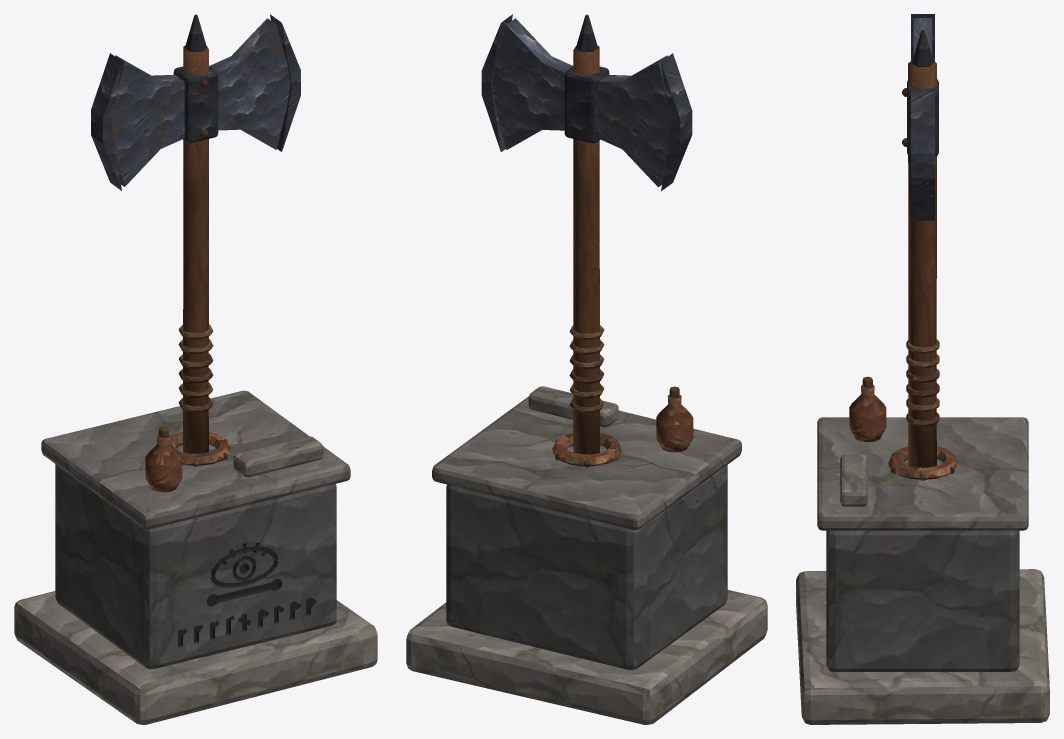
Rendered from vo_axe_rest.glb.
3 views of the same model, side by side, from view 1: azimuth 30°, elevation 25°; view 2: azimuth 150°, elevation 25°; view 3: azimuth 270°, elevation 25° (orthographic).
Visible parts, largest first — view 1: model; view 2: model; view 3: model.
Part boxes in pixels (x1,y1,x2,y2): model: (14, 14, 377, 724); model: (406, 14, 767, 724); model: (796, 14, 1049, 724).
Bounding box in the file's own units: 0.6242 × 1.53 × 0.5518.
Materials: 11 (10 with a texture image).
